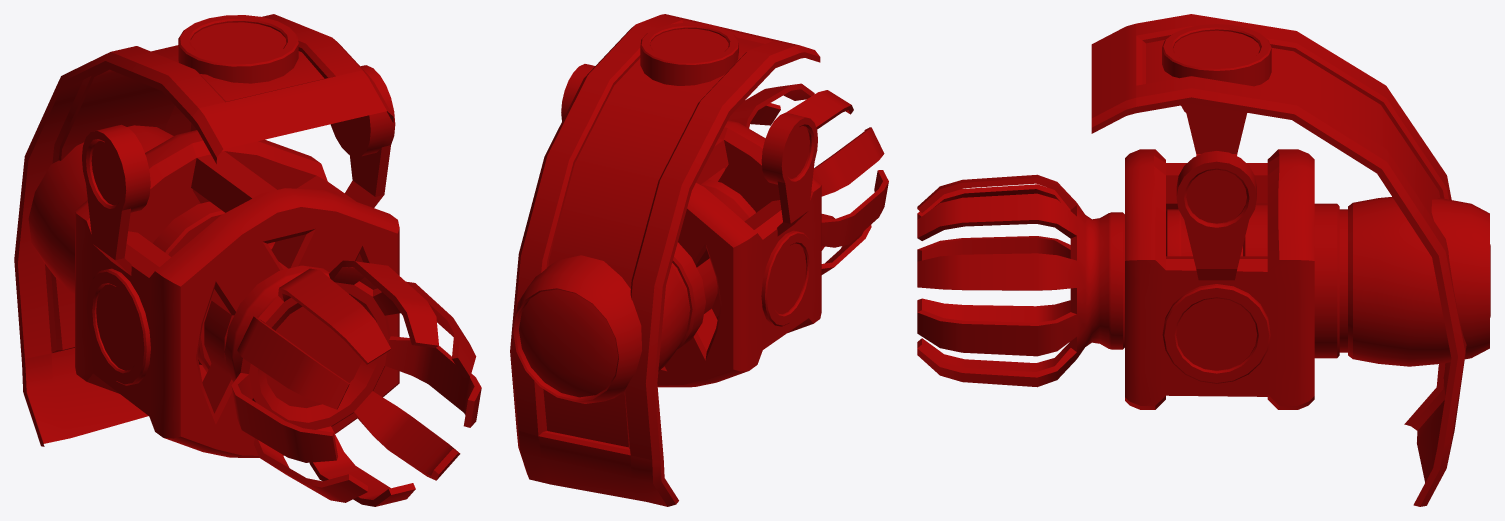
Rendered from SM_Big_Robot_Gun.fbx.
3 renders of one model, left to right at view 1: azimuth 30°, elevation 25°; view 2: azimuth 150°, elevation 25°; view 3: azimuth 270°, elevation 25°, orthographic. The views are drawn at different scales.
Parts seen in each view (by area): view 1: Mount_3, Gun, Shoulder, Mount_2, Mount_1; view 2: Shoulder, Gun, Mount_3, Mount_2, Mount_1; view 3: Gun, Mount_3, Shoulder, Mount_2, Mount_1.
Part boxes in pixels (<box>): Mount_3: <box>75,130,399,457</box>; Gun: <box>28,125,481,506</box>; Shoulder: <box>14,14,393,446</box>; Mount_2: <box>82,65,395,275</box>; Mount_1: <box>178,15,298,83</box>; Shoulder: <box>510,14,820,506</box>; Gun: <box>513,83,888,403</box>; Mount_3: <box>657,120,821,387</box>; Mount_2: <box>561,64,817,236</box>; Mount_1: <box>640,22,738,85</box>; Gun: <box>917,174,1490,387</box>; Mount_3: <box>1125,149,1314,409</box>; Shoulder: <box>1091,14,1466,506</box>; Mount_2: <box>1176,103,1256,280</box>; Mount_1: <box>1162,24,1271,86</box>.
Bounding box in the file's own units: 23.07 × 38.27 × 46.91.
